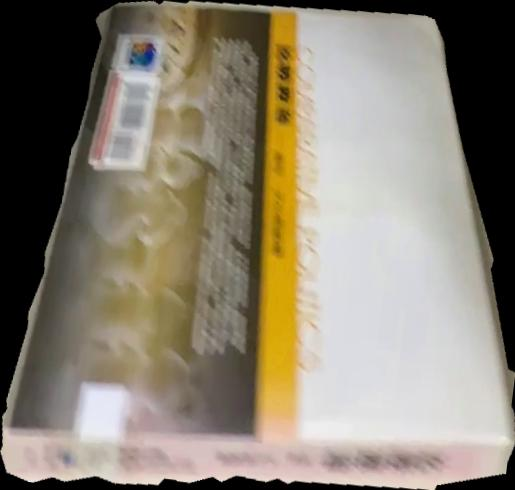flat: (1, 1, 515, 490)
